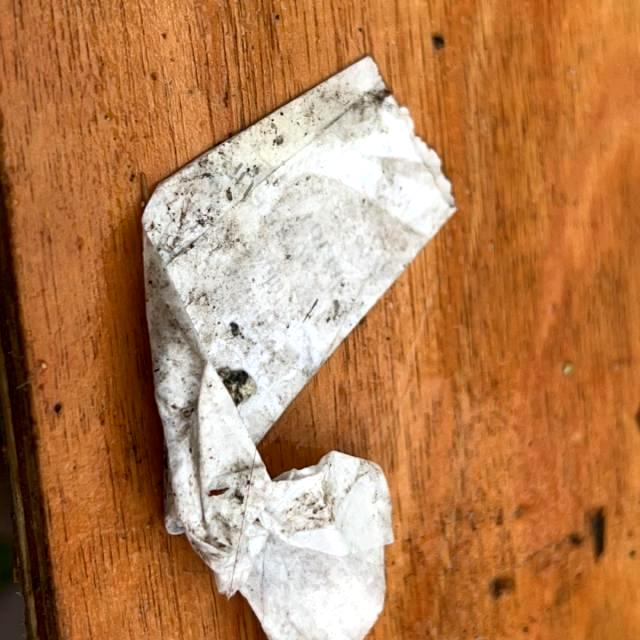Paper: (138, 51, 462, 640)
